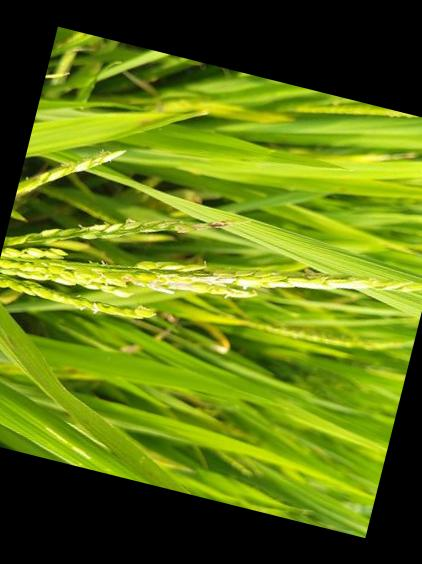Panicle Blight: (0, 218, 422, 320)
